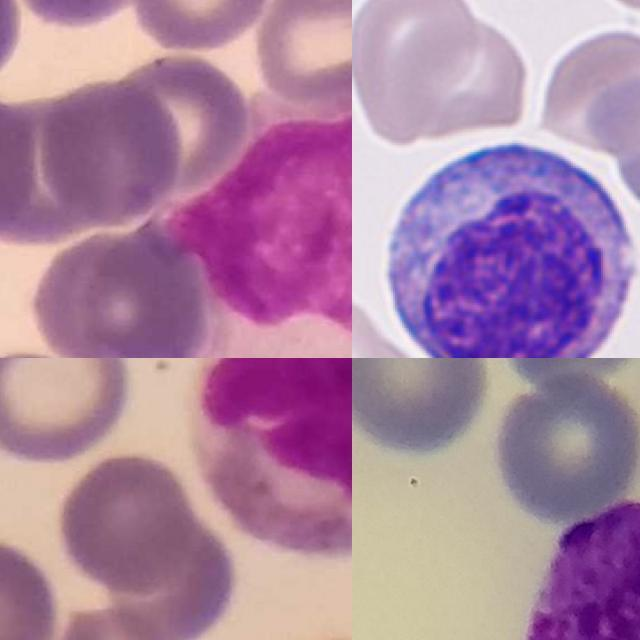Basophil: (523, 499, 640, 640)
Eosinophil: (187, 358, 352, 556)
Lymphocyte: (370, 132, 640, 358)
RBC: (156, 111, 352, 358), (352, 0, 483, 150), (392, 8, 534, 143), (537, 23, 640, 157), (601, 27, 640, 212), (352, 276, 419, 358)
